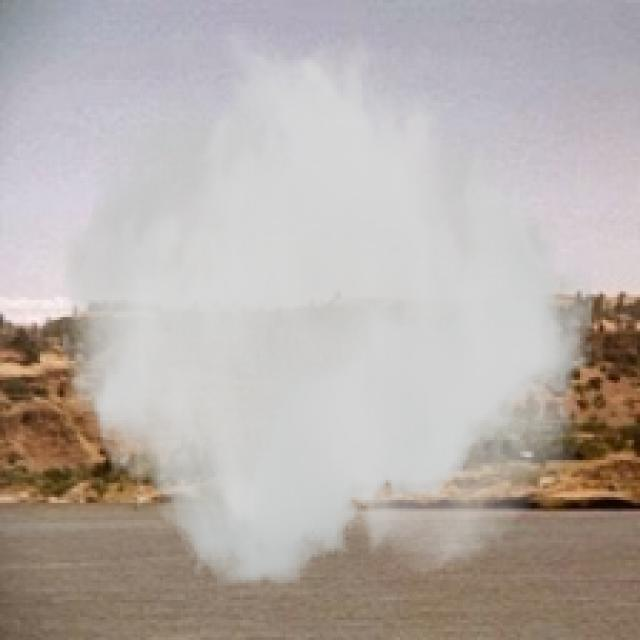Smoke: (54, 17, 592, 586)
